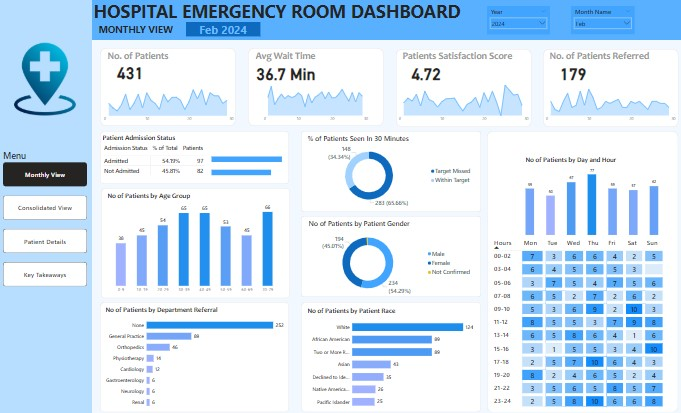

The dashboard page shown, as its layout file describes it:
{"tool":"powerbi","page":{"name":"Monthly View","canvas":[2300,1400],"ordinal":0},"visuals":[{"type":"shape","box":[9.1,0,310,1400.5],"z":0},{"type":"shape","box":[839.3,167.5,452.4,260],"z":0,"group":"g1"},{"type":"shape","box":[1330.9,170,452.4,260],"z":0,"group":"g2"},{"type":"shape","box":[1822.6,170,452.4,260],"z":0,"group":"g3"},{"type":"shape","box":[348,442,630,177],"z":0,"group":"g5"},{"type":"shape","box":[350,632,630,368],"z":0,"group":"g4"},{"type":"shape","box":[347.6,167.5,452.4,260],"z":1000},{"type":"pivotTable","title":"Patient Admission Status","fields":{"Rows":["Hospital ER_Data.Admission Status"],"Values":["Divide(Hospital ER_Data.No of Patients Referred, ScopedEval(Hospital ER_Data.No of Patients Referred, [Role.Columns]))","Hospital ER_Data.No of Patients Referred"]},"box":[350.5,449.5,617.5,160],"z":1000,"group":"g5"},{"type":"clusteredColumnChart","fields":{"Category":["Hospital ER_Data.Age Group"],"Y":["Date table.No of Patients"]},"box":[366,642,590,350],"z":1000,"group":"g4"},{"type":"shape","box":[319.9,0,1980.1,140],"z":2000},{"type":"barChart","fields":{"Category":["Hospital ER_Data.Admission Status"],"Y":["Hospital ER_Data.No of Patients Referred"]},"box":[715,492,252,128],"z":2000,"group":"g5"},{"type":"textbox","box":[320.6,0,1441.2,120.6],"z":3000},{"type":"textbox","box":[336.7,76.7,273.3,63.3],"z":4000},{"type":"slicer","fields":{"Values":["Date table.Year"]},"box":[1635,25,210,95],"z":5000},{"type":"card","fields":{"Values":["Hospital ER_Data.Satisfaction Score"]},"box":[1330.9,170,200.2,157.5],"z":5000,"group":"g2"},{"type":"card","fields":{"Values":["Hospital ER_Data.No of Patients Referred"]},"box":[1822.6,170,200.2,157.5],"z":5000,"group":"g3"},{"type":"card","fields":{"Values":["Date table.Average Wait Time"]},"box":[838.6,171.3,252.5,157.5],"z":5000,"group":"g1"},{"type":"card","fields":{"Values":["Date table.No of Patients"]},"box":[347.6,167.5,200.2,157.5],"z":6000},{"type":"slicer","fields":{"Values":["Date table.Month Name"]},"box":[1918,26,212,94],"z":7000},{"type":"card","fields":{"Values":["Min(Date table.Month and Year)"]},"box":[632.5,80,247.5,47.5],"z":8000},{"type":"textbox","box":[857.5,167.5,286,62.5],"z":8000,"group":"g1"},{"type":"textbox","box":[1347.5,167.5,387.5,65],"z":8000,"group":"g2"},{"type":"textbox","box":[1840,167.5,365,65],"z":8000,"group":"g3"},{"type":"textbox","box":[365.8,167.5,286,62.5],"z":9000},{"type":"areaChart","fields":{"Category":["Date table.Date.Variation.Date Hierarchy.Day"],"Y":["Hospital ER_Data.Satisfaction Score"]},"box":[1328.3,277.5,452.4,145],"z":9000,"group":"g2"},{"type":"areaChart","fields":{"Category":["Date table.Date.Variation.Date Hierarchy.Day"],"Y":["Hospital ER_Data.No of Patients Referred"]},"box":[1820,277.5,452.4,145],"z":9000,"group":"g3"},{"type":"group","id":"g1","title":"Group 1","box":[838.6,167.5,453.1,260],"z":10000},{"type":"areaChart","fields":{"Category":["Date table.Date.Variation.Date Hierarchy.Day"],"Y":["Date table.No of Patients"]},"box":[345,275,452.4,145],"z":11000},{"type":"group","id":"g2","title":"Group 1","box":[1328.3,167.5,455,262.5],"z":12000},{"type":"group","id":"g3","title":"Group 1","box":[1820,167.5,455,262.5],"z":13000},{"type":"areaChart","fields":{"Category":["Date table.Date.Variation.Date Hierarchy.Day"],"Y":["Avg(Hospital ER_Data.Patient Waittime)"]},"box":[880,262.5,367.5,157.5],"z":14000},{"type":"shape","box":[347.8,1012.8,630,368],"z":15000},{"type":"group","id":"g4","title":"Group 2","box":[350,632,630,368],"z":16000},{"type":"group","id":"g5","title":"Group 3","box":[348,442,630,178],"z":17000},{"type":"clusteredBarChart","fields":{"Y":["Date table.No of Patients"],"Category":["Hospital ER_Data.Department Referral"]},"box":[360.2,1024.2,606.7,356.9],"z":18000},{"type":"shape","box":[1015.7,1012.9,600,367.8],"z":19000},{"type":"shape","box":[1015.9,727.2,600,270],"z":20000},{"type":"donutChart","fields":{"Category":["Hospital ER_Data.Patient Gender"],"Y":["Date table.No of Patients"]},"box":[1035,735,557.5,262.5],"z":21000},{"type":"clusteredBarChart","fields":{"Y":["Date table.No of Patients"],"Category":["Hospital ER_Data.Patient Race"]},"box":[1032.5,1025,562.5,355],"z":22000},{"type":"shape","box":[1015.7,442,600,270],"z":23000},{"type":"donutChart","title":"% of Patients Seen In 30 Minutes","fields":{"Y":["Date table.No of Patients"],"Category":["Hospital ER_Data.Waittime Status"]},"box":[1032.4,452.9,561.8,247.1],"z":24000},{"type":"shape","box":[1635,442.5,637.5,937.5],"z":25000},{"type":"pivotTable","fields":{"Rows":["Hospital ER_Data.Waittime Interval"],"Columns":["Date table.Day Name"],"Values":["Date table.No of Patients"]},"box":[1650,794,606,586],"z":26000},{"type":"columnChart","title":"No of Patients by Day and Hour","fields":{"Category":["Date table.Day Name"],"Y":["Date table.No of Patients"]},"box":[1760,522.5,455,272.5],"z":27000},{"type":"image","box":[36.7,40,253.3,460],"z":28000},{"type":"pageNavigator","box":[23.3,503.3,280,460],"z":28001}]}

Visuals, with their boxes in screenshot pixels (x1, y1, x2, y2), scaled from the page's 2300x1400 canvas onto the 681x413 screenshot:
shape: (x1=3, y1=0, x2=94, y2=412)
shape: (x1=249, y1=49, x2=382, y2=126)
shape: (x1=394, y1=50, x2=528, y2=127)
shape: (x1=540, y1=50, x2=674, y2=127)
shape: (x1=103, y1=130, x2=290, y2=183)
shape: (x1=104, y1=186, x2=290, y2=295)
shape: (x1=103, y1=49, x2=237, y2=126)
"Patient Admission Status" pivotTable: (x1=104, y1=133, x2=287, y2=180)
clusteredColumnChart - Hospital ER_Data.Age Group x Date table.No of Patients: (x1=108, y1=189, x2=283, y2=293)
shape: (x1=95, y1=0, x2=680, y2=41)
barChart - Hospital ER_Data.Admission Status x Hospital ER_Data.No of Patients Referred: (x1=212, y1=145, x2=286, y2=183)
textbox: (x1=95, y1=0, x2=522, y2=36)
textbox: (x1=100, y1=23, x2=181, y2=41)
slicer - Date table.Year: (x1=484, y1=7, x2=546, y2=35)
card - Hospital ER_Data.Satisfaction Score: (x1=394, y1=50, x2=453, y2=97)
card - Hospital ER_Data.No of Patients Referred: (x1=540, y1=50, x2=599, y2=97)
card - Date table.Average Wait Time: (x1=248, y1=51, x2=323, y2=97)
card - Date table.No of Patients: (x1=103, y1=49, x2=162, y2=96)
slicer - Date table.Month Name: (x1=568, y1=8, x2=631, y2=35)
card - Min(Date table.Month and Year): (x1=187, y1=24, x2=261, y2=38)
textbox: (x1=254, y1=49, x2=339, y2=68)
textbox: (x1=399, y1=49, x2=514, y2=69)
textbox: (x1=545, y1=49, x2=653, y2=69)
textbox: (x1=108, y1=49, x2=193, y2=68)
areaChart - Date table.Date.Variation.Date Hierarchy.Day x Hospital ER_Data.Satisfaction Score: (x1=393, y1=82, x2=527, y2=125)
areaChart - Date table.Date.Variation.Date Hierarchy.Day x Hospital ER_Data.No of Patients Referred: (x1=539, y1=82, x2=673, y2=125)
"Group 1" group: (x1=248, y1=49, x2=382, y2=126)
areaChart - Date table.Date.Variation.Date Hierarchy.Day x Date table.No of Patients: (x1=102, y1=81, x2=236, y2=124)
"Group 1" group: (x1=393, y1=49, x2=528, y2=127)
"Group 1" group: (x1=539, y1=49, x2=674, y2=127)
areaChart - Date table.Date.Variation.Date Hierarchy.Day x Avg(Hospital ER_Data.Patient Waittime): (x1=261, y1=77, x2=369, y2=124)
shape: (x1=103, y1=299, x2=290, y2=407)
"Group 2" group: (x1=104, y1=186, x2=290, y2=295)
"Group 3" group: (x1=103, y1=130, x2=290, y2=183)
clusteredBarChart - Date table.No of Patients x Hospital ER_Data.Department Referral: (x1=107, y1=302, x2=286, y2=407)
shape: (x1=301, y1=299, x2=478, y2=407)
shape: (x1=301, y1=215, x2=478, y2=294)
donutChart - Hospital ER_Data.Patient Gender x Date table.No of Patients: (x1=306, y1=217, x2=472, y2=294)
clusteredBarChart - Date table.No of Patients x Hospital ER_Data.Patient Race: (x1=306, y1=302, x2=472, y2=407)
shape: (x1=301, y1=130, x2=478, y2=210)
"% of Patients Seen In 30 Minutes" donutChart: (x1=306, y1=134, x2=472, y2=206)
shape: (x1=484, y1=131, x2=673, y2=407)
pivotTable - Hospital ER_Data.Waittime Interval x Date table.Day Name: (x1=489, y1=234, x2=668, y2=407)
"No of Patients by Day and Hour" columnChart: (x1=521, y1=154, x2=656, y2=235)
image: (x1=11, y1=12, x2=86, y2=148)
pageNavigator: (x1=7, y1=148, x2=90, y2=284)
